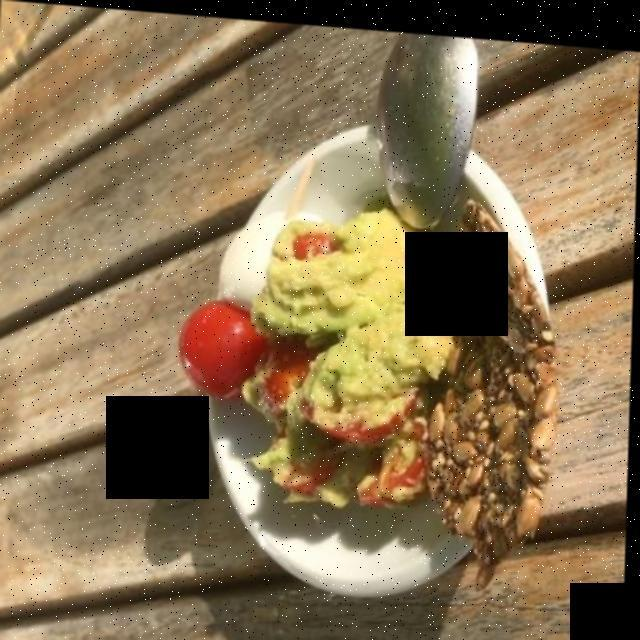avocado: (260, 205, 454, 507)
tomato: (248, 334, 431, 507), (181, 297, 262, 391)
